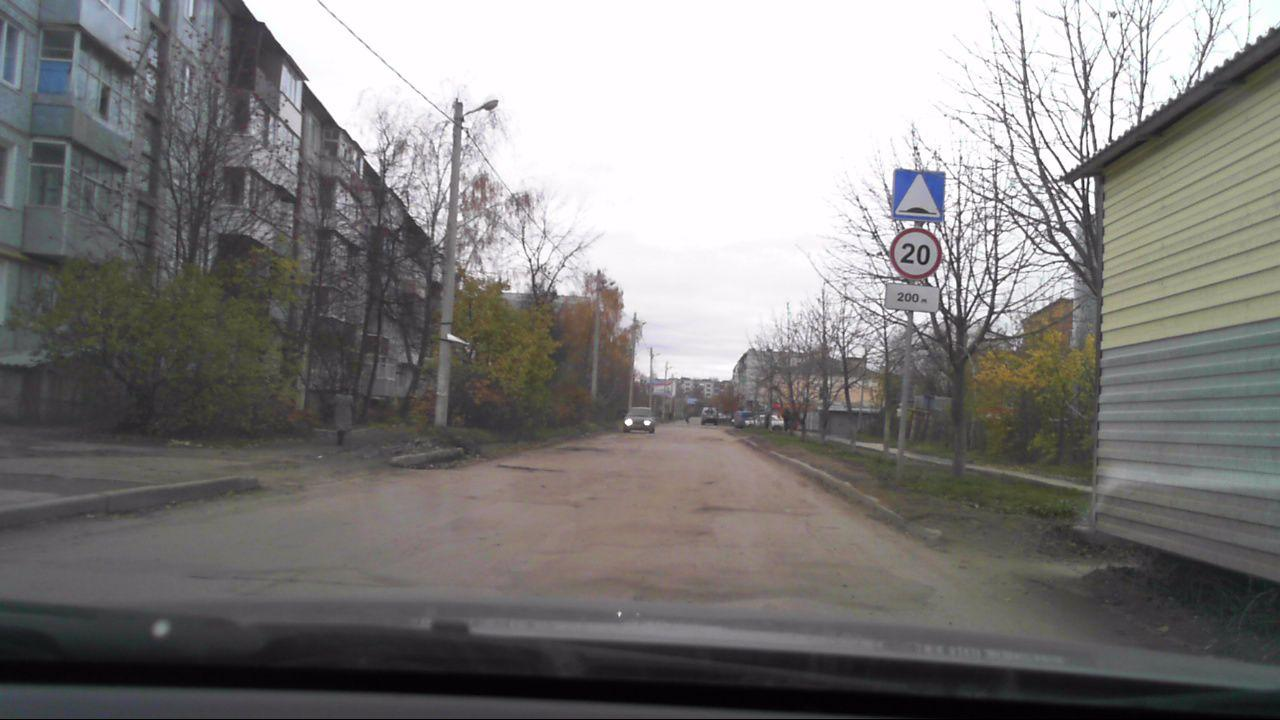3_24: (891, 224, 942, 279)
5_20: (892, 168, 947, 221)
8_1_1: (885, 283, 939, 315)
